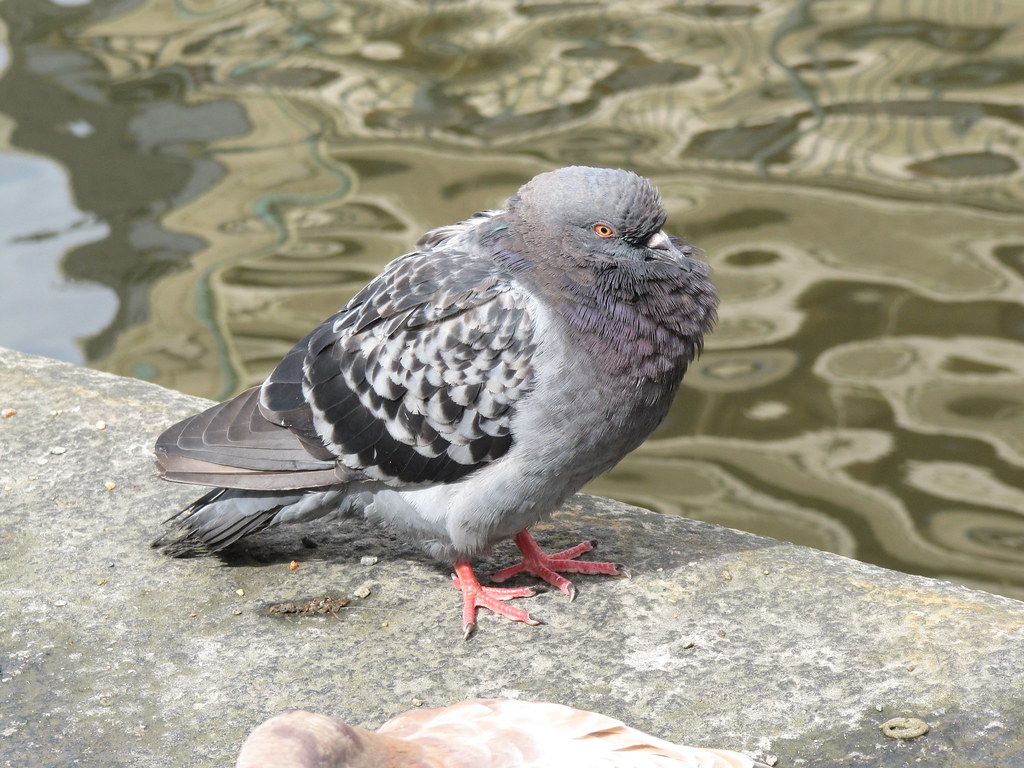pigeon: (133, 162, 732, 645)
